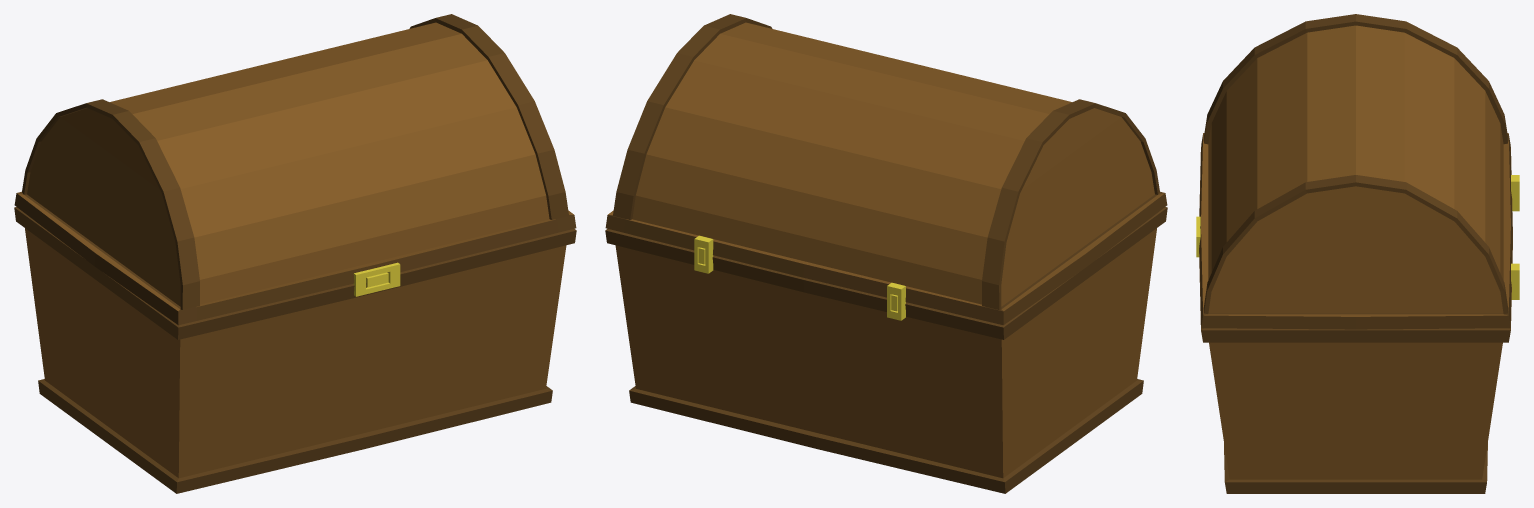
File: chest.fbx
3 renders of one model, left to right at view 1: azimuth 30°, elevation 25°; view 2: azimuth 150°, elevation 25°; view 3: azimuth 270°, elevation 25°, orthographic. The views are drawn at different scales.
Parts seen in each view (by area): view 1: Plane.001, Plane, Plane.003; view 2: Plane.001, Plane, Plane.002; view 3: Plane.001, Plane, Plane.002.
Part boxes in pixels (box(x1,y1,x2,y2)): Plane.001: box(14, 14, 576, 325); Plane: box(14, 207, 576, 493); Plane.003: box(353, 262, 400, 296); Plane.001: box(605, 14, 1167, 325); Plane: box(605, 207, 1167, 493); Plane.002: box(694, 235, 905, 320); Plane.001: box(1199, 14, 1512, 329); Plane: box(1199, 147, 1512, 493); Plane.002: box(1511, 175, 1519, 299).
Size of the model in its own units: 352 by 274 by 260.
